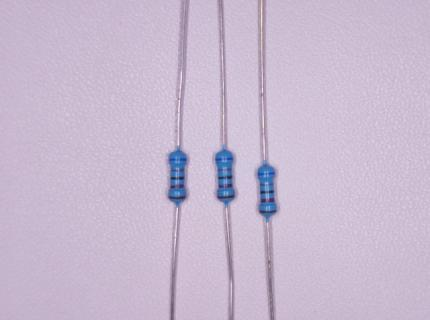Black band: (170, 176, 185, 180), (217, 176, 232, 180), (260, 190, 274, 194)
Blue band: (215, 157, 234, 161), (257, 172, 276, 176), (168, 158, 186, 161)
Brown band: (168, 196, 186, 200), (217, 195, 235, 199), (259, 210, 277, 214)
Grey band: (217, 168, 233, 172), (259, 183, 274, 187), (170, 168, 184, 172)
Red band: (170, 184, 185, 189), (218, 184, 233, 189), (260, 198, 275, 203)
